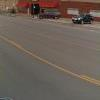Car: (68, 11, 96, 25)
